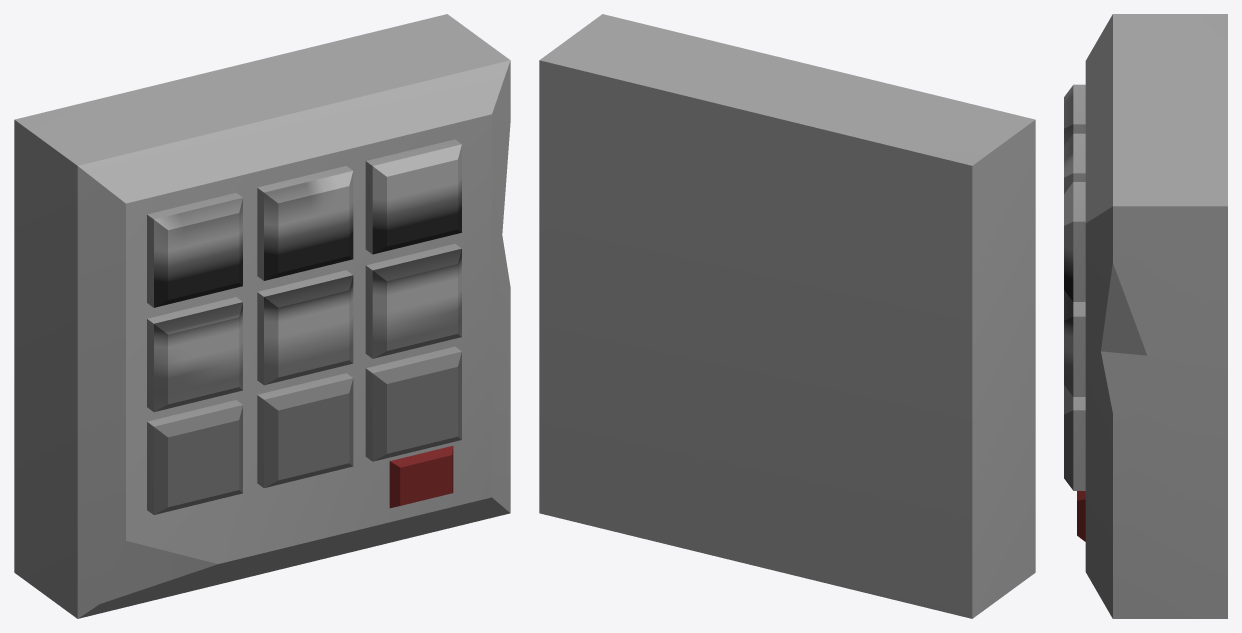
The model's file is SM_Gen_Prop_Keypad_01.glb.
The picture shows the model from 3 angles, left to right: view 1: azimuth 30°, elevation 25°; view 2: azimuth 150°, elevation 25°; view 3: azimuth 270°, elevation 25°; orthographic projection. The views are drawn at different scales.
Visible parts, largest first — view 1: SM_Gen_Prop_Keypad_01; view 2: SM_Gen_Prop_Keypad_01; view 3: SM_Gen_Prop_Keypad_01.
Boxes of the visible parts, x1,y1,x2,y2 form: SM_Gen_Prop_Keypad_01: (14, 14, 510, 618); SM_Gen_Prop_Keypad_01: (539, 14, 1035, 618); SM_Gen_Prop_Keypad_01: (1064, 14, 1227, 618).
Size of the model in its own units: 0.1977 by 0.1977 by 0.0712.
Materials: 1 (1 with a texture image).
